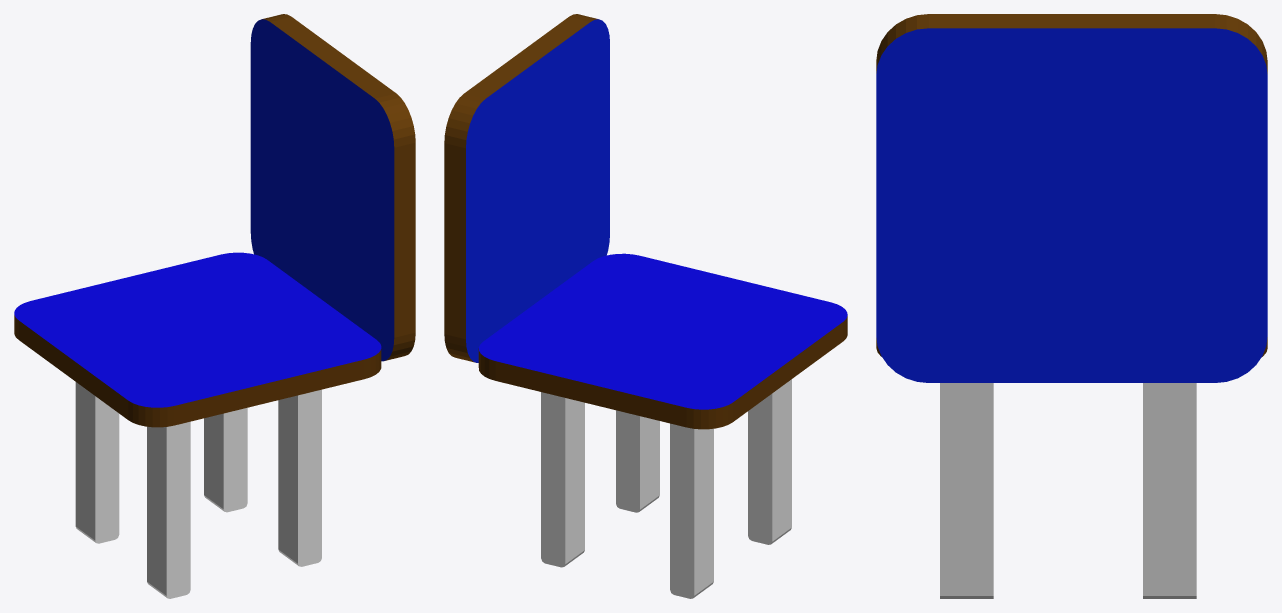
File: Silla.fbx
3 views of the same model, side by side, from view 1: azimuth 30°, elevation 25°; view 2: azimuth 150°, elevation 25°; view 3: azimuth 270°, elevation 25° (orthographic). The views are drawn at different scales.
Parts seen in each view (by area): view 1: Cube.002, Cube.001, Cube.006, Cube.005, Cube.003, Cube.004; view 2: Cube.002, Cube.001, Cube.003, Cube.004, Cube.006, Cube.005; view 3: Cube.002, Cube.004, Cube.005.
Boxes of the visible parts, bbox=[...] form: Cube.002: bbox=[250, 14, 415, 361]; Cube.001: bbox=[14, 252, 381, 427]; Cube.006: bbox=[147, 421, 190, 598]; Cube.005: bbox=[278, 389, 321, 566]; Cube.003: bbox=[75, 382, 119, 543]; Cube.004: bbox=[204, 407, 247, 512]; Cube.002: bbox=[444, 14, 609, 362]; Cube.001: bbox=[478, 253, 847, 429]; Cube.003: bbox=[670, 423, 713, 598]; Cube.004: bbox=[541, 392, 584, 567]; Cube.006: bbox=[748, 379, 791, 544]; Cube.005: bbox=[616, 410, 659, 512]; Cube.002: bbox=[876, 14, 1267, 382]; Cube.004: bbox=[1143, 383, 1196, 598]; Cube.005: bbox=[940, 383, 993, 598].
Bounding box in the file's own units: 218 × 349 × 200.
